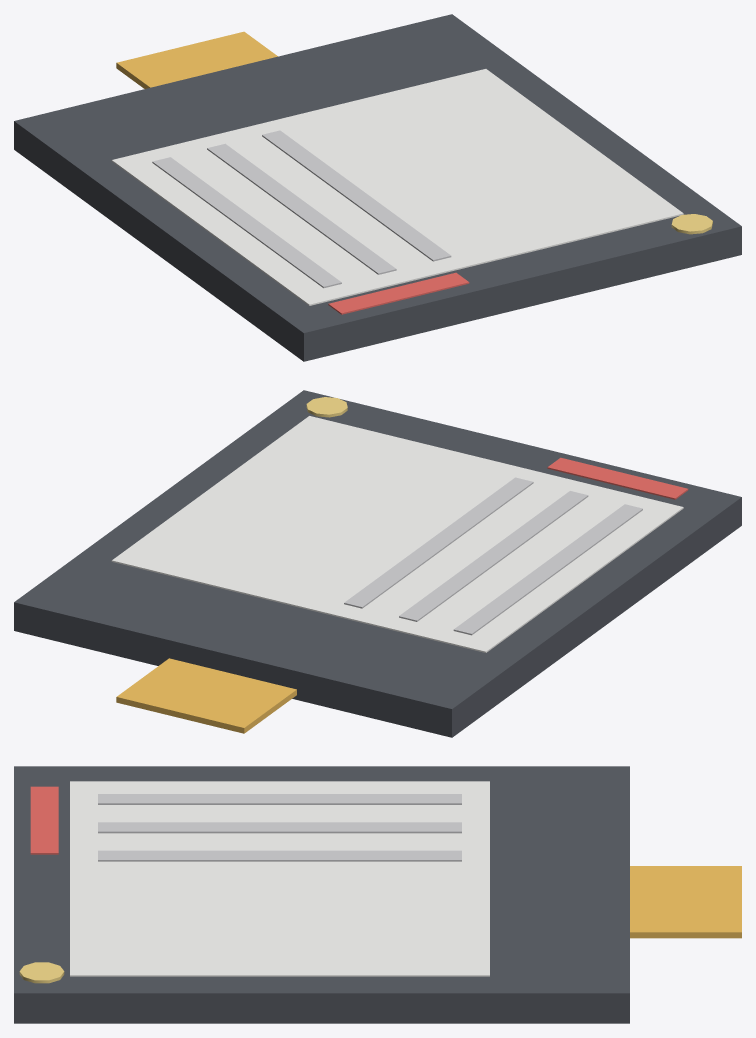
File: phone-battery.glb
The picture shows the model from 3 angles, top to bottom: view 1: azimuth 30°, elevation 25°; view 2: azimuth 150°, elevation 25°; view 3: azimuth 270°, elevation 25°; orthographic projection. The views are drawn at different scales.
Parts seen in each view (by area): view 1: battery; view 2: battery; view 3: battery.
Part boxes in pixels (bbox=[...]): battery: bbox=[14, 14, 741, 361]; battery: bbox=[14, 390, 741, 737]; battery: bbox=[14, 766, 741, 1023].
Bounding box in the file's own units: 0.096 × 0.0066 × 0.13.
